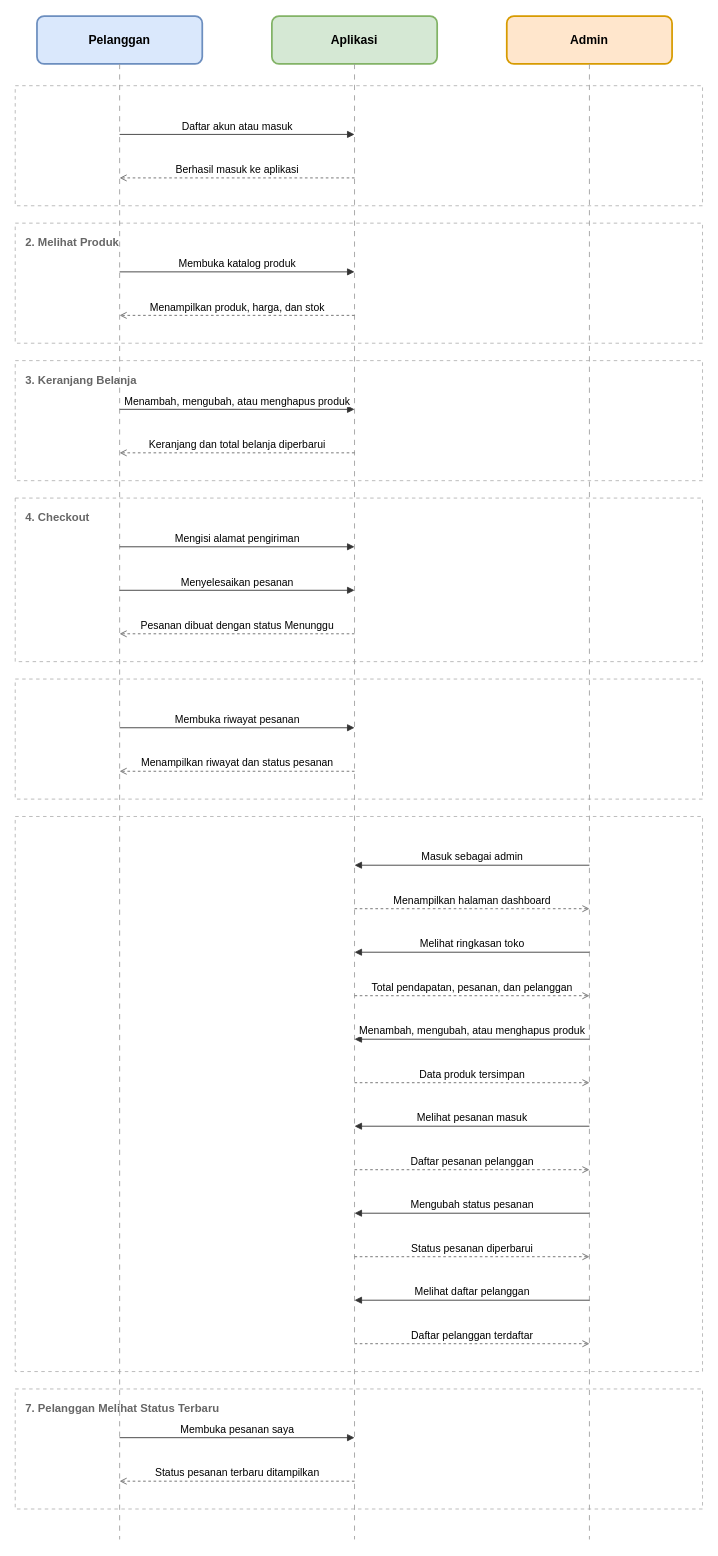
Some shapes in this 718 by 1556 pixel diagram are drawn without their labels. Here are the shapes that lost their labels. From the top down, the box of each, then its label:
(14, 85, 703, 206): 1. Daftar dan Masuk
(14, 678, 703, 799): 5. Pesanan Saya
(14, 816, 703, 1372): 6. Admin Mengelola Toko
